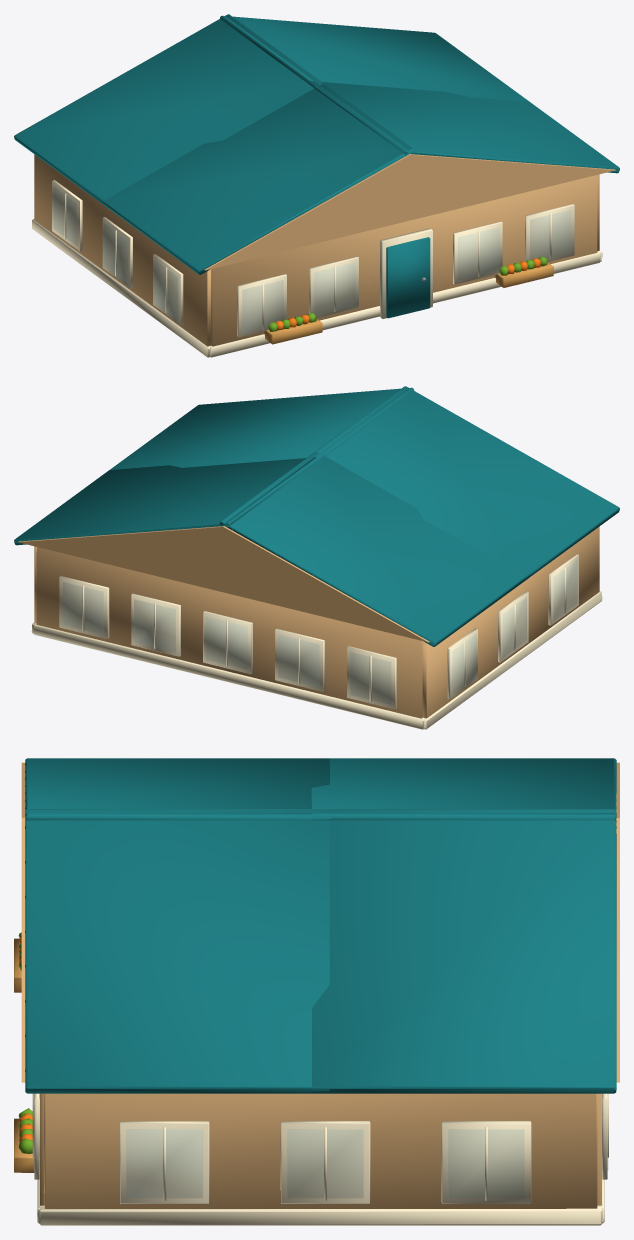
Rendered from project_0-low.glb.
3 renders of one model, top to bottom at view 1: azimuth 30°, elevation 25°; view 2: azimuth 150°, elevation 25°; view 3: azimuth 270°, elevation 25°, orthographic. The views are drawn at different scales.
Parts seen in each view (by area): view 1: roof half.002, roof half, wall.001, painted gable.001, foundation trim.001, wall.002, foundation trim.002, blue window.005, door.001, blue window.010, door frame, planter (+1 smaller); view 2: roof half, roof half.002, wall, foundation trim, painted gable, blue window, wall.002, foundation trim.002, blue window.010; view 3: roof half.002, roof half, wall.003, foundation trim.003, blue window.013, painted gable.001, painted gable, foundation trim.001, foundation trim.
Boxes of the visible parts, x1,y1,x2,y2 form: roof half.002: (103, 79, 619, 274); roof half: (14, 14, 529, 209); wall.001: (211, 175, 597, 346); painted gable.001: (204, 154, 615, 270); foundation trim.001: (210, 204, 600, 357); wall.002: (34, 154, 211, 346); foundation trim.002: (32, 180, 210, 357); blue window.005: (243, 210, 570, 332); door.001: (386, 237, 430, 318); blue window.010: (54, 186, 177, 319); door frame: (380, 228, 432, 318); planter: (264, 319, 322, 344); roof half: (14, 451, 530, 646); roof half.002: (110, 386, 619, 580); wall: (36, 547, 422, 718); foundation trim: (33, 576, 423, 729); painted gable: (18, 526, 429, 642); blue window: (63, 582, 390, 704); wall.002: (422, 526, 599, 718); foundation trim.002: (423, 554, 602, 729); blue window.010: (453, 561, 576, 693); roof half.002: (25, 758, 330, 1093); roof half: (311, 758, 616, 1093); wall.003: (44, 1093, 597, 1208); foundation trim.003: (39, 1121, 602, 1225); blue window.013: (127, 1129, 523, 1197); painted gable.001: (21, 762, 25, 1082); painted gable: (616, 762, 619, 1082); foundation trim.001: (32, 1093, 44, 1223); foundation trim: (597, 1093, 608, 1223).
Bounding box in the file's own units: 16.44 × 6.13 × 12.8.
